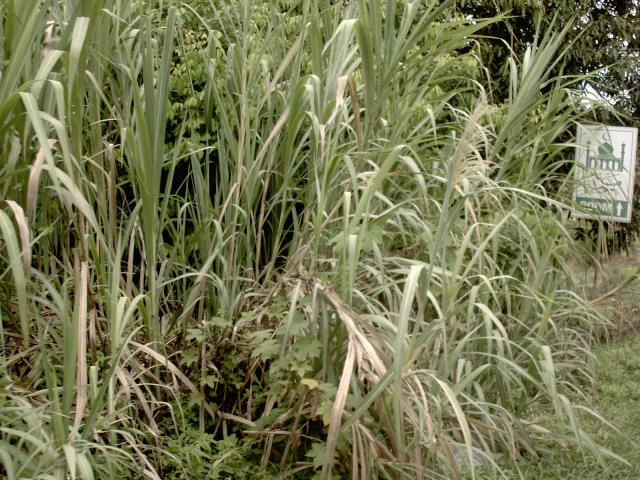ads_sign: (561, 114, 639, 231)
